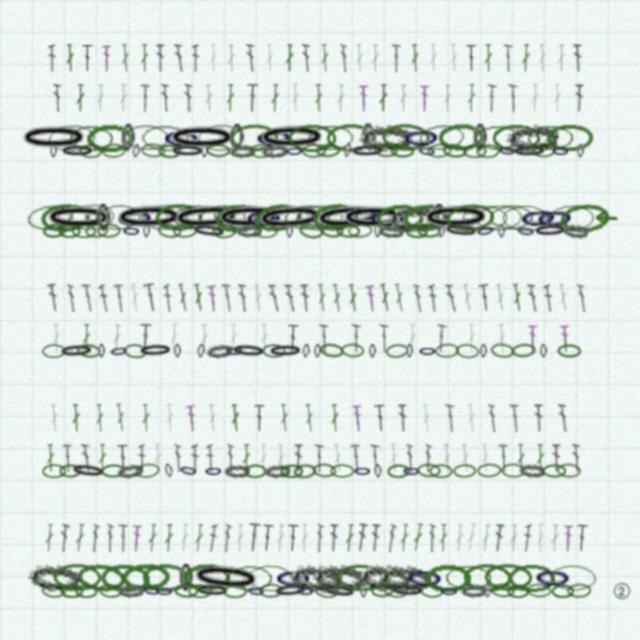chain: (190, 561, 262, 595), (313, 201, 384, 234), (255, 202, 326, 234), (171, 202, 242, 233), (257, 123, 327, 152), (114, 203, 184, 232), (215, 203, 285, 232), (421, 203, 491, 232), (19, 124, 89, 152), (167, 124, 237, 152), (44, 204, 114, 232), (340, 204, 410, 232), (252, 201, 303, 235), (289, 562, 343, 594), (506, 122, 559, 153), (28, 562, 81, 593), (559, 202, 610, 234), (25, 202, 75, 234), (445, 202, 495, 234), (76, 562, 126, 594), (387, 203, 440, 233), (402, 202, 451, 234), (417, 122, 467, 153), (40, 202, 90, 233), (66, 202, 116, 233), (140, 202, 190, 233), (197, 202, 247, 233), (282, 202, 332, 233), (359, 123, 412, 152), (94, 202, 143, 233), (311, 202, 360, 233), (313, 563, 365, 592), (359, 563, 411, 592), (47, 123, 97, 153), (140, 123, 190, 153), (295, 203, 345, 233), (100, 563, 150, 593), (246, 563, 296, 593), (548, 563, 598, 593), (375, 203, 424, 233), (474, 203, 523, 233), (546, 203, 595, 233), (336, 563, 385, 593), (379, 564, 431, 592), (196, 123, 246, 152), (381, 123, 431, 152), (214, 203, 262, 233), (121, 563, 170, 592), (463, 563, 512, 592), (122, 123, 170, 152), (326, 123, 374, 152), (155, 203, 203, 232), (171, 203, 219, 232), (53, 563, 101, 592), (182, 563, 230, 592), (484, 563, 532, 592), (492, 124, 541, 152), (438, 123, 485, 152), (488, 203, 535, 232), (142, 563, 189, 592), (230, 124, 278, 152), (288, 124, 336, 152), (307, 124, 355, 152), (473, 124, 521, 152), (526, 124, 574, 152), (546, 124, 594, 152), (501, 204, 549, 232), (225, 564, 273, 592), (444, 564, 492, 592), (68, 124, 115, 152), (86, 124, 133, 152), (461, 204, 508, 232), (424, 564, 471, 592), (508, 564, 555, 592), (342, 202, 383, 233), (518, 202, 559, 233), (115, 203, 155, 233), (535, 203, 575, 233), (405, 563, 445, 593), (254, 123, 294, 152), (244, 203, 284, 232), (533, 563, 573, 592), (402, 123, 441, 152), (162, 124, 201, 152), (368, 204, 407, 232), (274, 564, 313, 592), (191, 222, 227, 240), (70, 462, 106, 480), (321, 582, 357, 600), (443, 222, 479, 239), (273, 582, 309, 599), (59, 343, 94, 359), (231, 343, 266, 359), (533, 223, 568, 238), (138, 343, 173, 358), (195, 583, 230, 598), (390, 583, 425, 598), (116, 462, 144, 480), (60, 144, 95, 158), (170, 144, 205, 158), (350, 144, 385, 158), (512, 144, 547, 158), (268, 344, 303, 358), (206, 342, 233, 360), (298, 222, 324, 240), (361, 123, 377, 152), (229, 143, 256, 159), (261, 143, 288, 159), (562, 223, 589, 239), (264, 463, 291, 479), (319, 342, 344, 359), (490, 342, 515, 359), (135, 462, 160, 479), (383, 582, 408, 599), (229, 124, 244, 152), (96, 204, 111, 232), (432, 204, 447, 232), (442, 143, 467, 159), (157, 223, 182, 239), (212, 223, 237, 239), (76, 343, 101, 359), (123, 343, 148, 359), (455, 343, 480, 359), (41, 583, 66, 599), (314, 583, 339, 599), (419, 583, 444, 599), (121, 124, 135, 152), (473, 124, 487, 152), (179, 564, 193, 592), (236, 223, 262, 238), (519, 463, 545, 478), (118, 583, 144, 598), (461, 583, 487, 598), (320, 223, 344, 239), (404, 223, 428, 239), (385, 343, 409, 359), (293, 463, 317, 479), (98, 583, 122, 599), (427, 143, 452, 158), (532, 143, 557, 158), (511, 343, 536, 358), (312, 463, 337, 478), (378, 224, 404, 238), (224, 464, 250, 478), (102, 143, 126, 158), (141, 143, 165, 158), (206, 143, 230, 158), (302, 143, 326, 158), (316, 143, 340, 158), (374, 143, 398, 158), (42, 223, 66, 238), (97, 223, 121, 238), (173, 223, 197, 238), (336, 223, 360, 238), (348, 223, 372, 238), (435, 343, 459, 358), (417, 463, 441, 478), (477, 463, 501, 478), (501, 463, 525, 478), (557, 463, 581, 478), (174, 583, 198, 598), (259, 583, 283, 598), (491, 583, 515, 598), (527, 583, 551, 598), (567, 583, 591, 598), (475, 222, 496, 239), (178, 462, 199, 479), (141, 582, 162, 599), (85, 223, 108, 238), (341, 343, 364, 358), (371, 583, 394, 598), (249, 144, 273, 158), (390, 144, 414, 158), (463, 144, 487, 158), (476, 144, 500, 158), (72, 224, 96, 238), (254, 224, 278, 238), (417, 224, 441, 238), (42, 344, 66, 358), (262, 344, 286, 358), (557, 344, 581, 358), (42, 464, 66, 478), (101, 464, 125, 478), (330, 464, 354, 478), (429, 464, 453, 478), (542, 464, 566, 478), (188, 584, 212, 598), (223, 584, 247, 598), (79, 144, 102, 158), (158, 144, 181, 158), (58, 224, 81, 238), (59, 464, 82, 478), (244, 464, 267, 478), (280, 464, 303, 478), (387, 464, 410, 478), (453, 464, 476, 478), (60, 584, 83, 598), (75, 584, 98, 598), (507, 584, 530, 598), (551, 584, 574, 598), (417, 143, 437, 159), (516, 223, 536, 239), (109, 343, 129, 359), (246, 583, 266, 599), (498, 143, 517, 158), (285, 144, 304, 158), (551, 144, 570, 158), (122, 224, 141, 238), (225, 344, 244, 358), (418, 344, 437, 358), (204, 464, 223, 478), (353, 464, 372, 478), (402, 464, 421, 478), (155, 584, 174, 598), (296, 584, 315, 598), (440, 584, 459, 598), (164, 463, 174, 478), (343, 143, 352, 158), (437, 224, 446, 238), (132, 144, 140, 158), (197, 344, 205, 358), (302, 344, 310, 358), (374, 464, 382, 478), (484, 584, 492, 598), (50, 144, 57, 158), (201, 144, 208, 158), (577, 144, 584, 158), (143, 224, 150, 238), (286, 224, 293, 238), (374, 224, 381, 238), (498, 224, 505, 238), (98, 344, 105, 358), (174, 344, 181, 358), (314, 344, 321, 358), (369, 344, 376, 358), (406, 344, 413, 358), (480, 344, 487, 358), (540, 344, 547, 358), (360, 584, 367, 598)
double: (143, 283, 159, 312), (81, 283, 95, 312), (176, 283, 190, 312), (378, 283, 392, 312), (478, 283, 492, 312), (247, 523, 261, 552), (411, 523, 425, 552), (47, 283, 60, 312), (192, 283, 205, 312), (221, 283, 234, 312), (393, 283, 406, 312), (461, 283, 474, 312), (494, 283, 507, 312), (511, 283, 524, 312), (557, 283, 570, 312), (114, 403, 127, 432), (465, 523, 478, 552), (246, 84, 259, 112), (139, 324, 152, 352), (374, 404, 387, 432), (261, 524, 274, 552), (356, 523, 368, 552), (98, 284, 110, 312), (113, 284, 125, 312), (129, 284, 141, 312), (252, 284, 264, 312), (268, 284, 280, 312), (284, 284, 296, 312), (316, 284, 328, 312), (331, 284, 343, 312), (347, 284, 359, 312), (365, 284, 377, 312), (445, 284, 457, 312), (287, 324, 299, 352), (435, 324, 447, 352), (117, 444, 129, 472), (332, 444, 344, 472), (58, 524, 70, 552), (74, 524, 86, 552), (193, 524, 205, 552), (287, 524, 299, 552), (480, 524, 492, 552), (493, 524, 505, 552), (576, 524, 588, 552), (82, 44, 93, 72), (120, 44, 131, 72), (390, 44, 401, 72), (466, 44, 477, 72), (139, 84, 150, 112), (486, 84, 497, 112), (207, 284, 218, 312), (300, 284, 311, 312), (527, 284, 538, 312), (543, 284, 554, 312), (49, 404, 60, 432), (186, 404, 197, 432), (207, 404, 218, 432), (230, 404, 241, 432), (254, 404, 265, 432), (279, 404, 290, 432), (304, 404, 315, 432), (352, 404, 363, 432), (421, 404, 432, 432), (445, 404, 456, 432), (466, 404, 477, 432), (509, 404, 520, 432), (350, 444, 361, 472), (460, 444, 471, 472), (480, 444, 491, 472), (44, 524, 55, 552), (117, 524, 128, 552), (131, 524, 142, 552), (147, 524, 158, 552), (179, 524, 190, 552), (275, 524, 286, 552), (344, 524, 355, 552), (370, 524, 381, 552), (386, 524, 397, 552), (399, 524, 410, 552), (454, 524, 465, 552), (65, 44, 75, 72), (174, 44, 184, 72), (265, 44, 275, 72), (320, 44, 330, 72), (410, 44, 420, 72), (449, 44, 459, 72), (503, 44, 513, 72), (521, 44, 531, 72), (573, 44, 583, 72), (204, 84, 214, 112), (270, 84, 280, 112), (336, 84, 346, 112), (508, 84, 518, 112), (530, 84, 540, 112), (163, 284, 173, 312), (413, 284, 423, 312), (428, 284, 438, 312), (577, 284, 587, 312), (112, 324, 122, 352), (169, 324, 179, 352), (319, 324, 329, 352), (351, 324, 361, 352), (379, 324, 389, 352), (497, 324, 507, 352), (560, 324, 570, 352), (71, 404, 81, 432), (95, 404, 105, 432), (141, 404, 151, 432), (165, 404, 175, 432), (330, 404, 340, 432), (398, 404, 408, 432), (534, 404, 544, 432), (558, 404, 568, 432), (62, 444, 72, 472), (81, 444, 91, 472), (153, 444, 163, 472), (276, 444, 286, 472), (314, 444, 324, 472), (370, 444, 380, 472), (389, 444, 399, 472), (442, 444, 452, 472), (498, 444, 508, 472), (516, 444, 526, 472), (90, 524, 100, 552), (164, 524, 174, 552), (208, 524, 218, 552), (222, 524, 232, 552), (235, 524, 245, 552), (329, 524, 339, 552), (509, 524, 519, 552), (550, 524, 560, 552), (563, 524, 573, 552), (102, 44, 111, 72), (140, 44, 149, 72), (156, 44, 165, 72), (209, 44, 218, 72), (227, 44, 236, 72), (246, 44, 255, 72), (285, 44, 294, 72), (355, 44, 364, 72), (371, 44, 380, 72), (429, 44, 438, 72), (484, 44, 493, 72), (538, 44, 547, 72), (557, 44, 566, 72), (76, 84, 85, 112), (96, 84, 105, 112), (119, 84, 128, 112), (226, 84, 235, 112), (291, 84, 300, 112), (314, 84, 323, 112), (359, 84, 368, 112), (379, 84, 388, 112), (399, 84, 408, 112), (420, 84, 429, 112), (443, 84, 452, 112), (467, 84, 476, 112), (553, 84, 562, 112), (575, 84, 584, 112), (67, 284, 76, 312), (238, 284, 247, 312), (52, 324, 61, 352), (82, 324, 91, 352), (200, 324, 209, 352), (229, 324, 238, 352), (260, 324, 269, 352), (408, 324, 417, 352), (467, 324, 476, 352), (528, 324, 537, 352), (488, 404, 497, 432), (46, 444, 55, 472), (98, 444, 107, 472), (206, 444, 215, 472), (242, 444, 251, 472), (259, 444, 268, 472), (294, 444, 303, 472), (536, 444, 545, 472), (552, 444, 561, 472), (300, 524, 309, 552), (315, 524, 324, 552), (439, 524, 448, 552), (523, 524, 532, 552), (536, 524, 545, 552), (48, 44, 56, 72), (302, 44, 310, 72), (340, 44, 348, 72), (53, 84, 61, 112), (161, 84, 169, 112), (184, 84, 192, 112), (138, 444, 146, 472), (174, 444, 182, 472), (191, 444, 199, 472), (406, 444, 414, 472), (424, 444, 432, 472), (572, 444, 580, 472), (106, 524, 114, 552), (428, 524, 436, 552), (192, 44, 199, 72), (227, 444, 234, 472)
noise: (611, 580, 633, 602), (593, 212, 618, 223)
